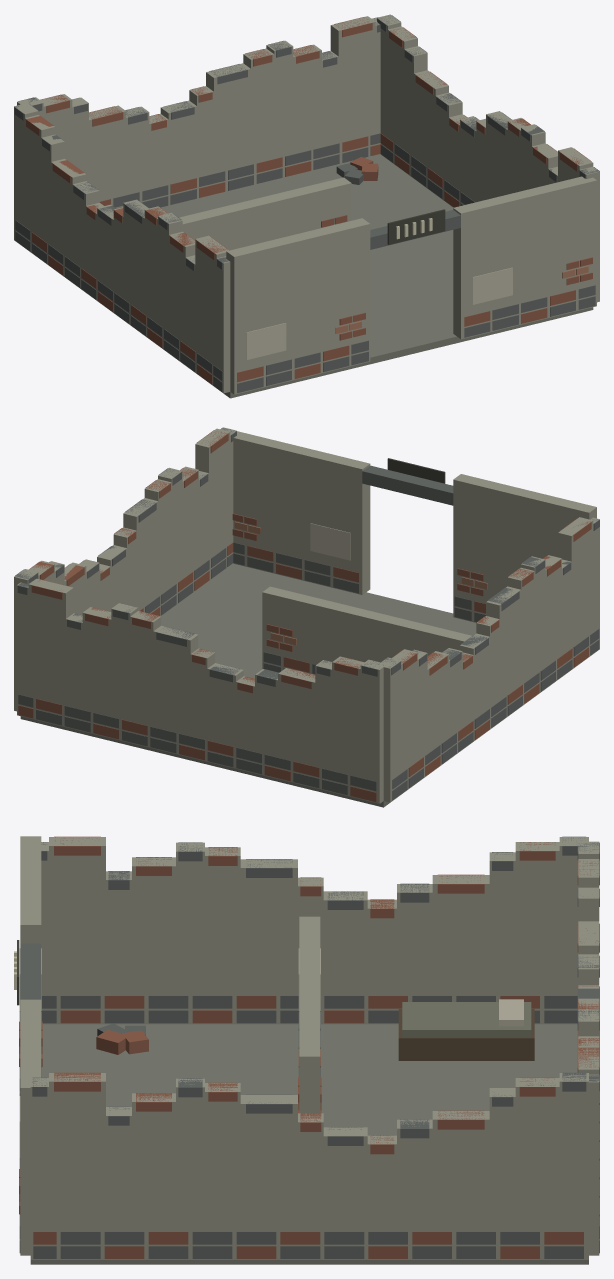
Rendered from FSA_ENV_Quarantine_Building_05_Roofless.glb.
3 renders of one model, top to bottom at view 1: azimuth 30°, elevation 25°; view 2: azimuth 150°, elevation 25°; view 3: azimuth 270°, elevation 25°, orthographic. The views are drawn at different scales.
Parts seen in each view (by area): view 1: Floor, FrontLeft, FrontRight, BackBase, WestBase, OldRoomDivider, EastBase, Back_Fracture_13, Back_Fracture_8, West_Fracture_13, Back_Fracture_3, Back_Fracture_11 (+36 smaller); view 2: BackBase, FrontRight, Floor, FrontLeft, WestBase, OldRoomDivider, EastBase, Back_Fracture_13, Back_Fracture_8, West_Fracture_13, East_Fracture_13, Back_Fracture_1 (+34 smaller); view 3: Floor, EastBase, WestBase, West_Fracture_13, East_Fracture_13, West_Fracture_8, East_Fracture_8, West_Fracture_1, OldRoomDivider, East_Fracture_1, CotMat, West_Fracture_3 (+62 smaller).
Part boxes in pixels (<box>): Floor: <box>162,154,593,398</box>; FrontLeft: <box>226,218,370,394</box>; FrontRight: <box>453,176,596,339</box>; BackBase: <box>79,95,380,208</box>; WestBase: <box>14,181,230,393</box>; OldRoomDivider: <box>179,177,351,250</box>; EastBase: <box>380,95,599,302</box>; Back_Fracture_13: <box>330,16,375,105</box>; Back_Fracture_8: <box>206,63,250,135</box>; West_Fracture_13: <box>195,235,228,328</box>; Back_Fracture_3: <box>89,105,126,166</box>; Back_Fracture_11: <box>293,44,321,116</box>; BackBase: <box>17,656,383,803</box>; FrontRight: <box>233,431,370,594</box>; Floor: <box>20,563,476,807</box>; FrontLeft: <box>453,474,596,622</box>; WestBase: <box>383,590,599,802</box>; OldRoomDivider: <box>262,586,471,674</box>; EastBase: <box>14,504,233,711</box>; Back_Fracture_13: <box>28,578,73,667</box>; Back_Fracture_8: <box>153,625,198,698</box>; West_Fracture_13: <box>558,517,593,610</box>; East_Fracture_13: <box>195,428,230,521</box>; Back_Fracture_1: <box>332,656,364,739</box>; Floor: <box>30,1024,588,1264</box>; EastBase: <box>30,1181,588,1259</box>; WestBase: <box>41,945,578,1024</box>; West_Fracture_13: <box>49,837,105,945</box>; East_Fracture_13: <box>49,1073,105,1180</box>; West_Fracture_8: <box>240,859,297,945</box>; East_Fracture_8: <box>240,1095,297,1180</box>; West_Fracture_1: <box>515,842,559,945</box>; OldRoomDivider: <box>299,916,320,1113</box>; East_Fracture_1: <box>515,1078,559,1180</box>; CotMat: <box>402,1002,531,1037</box>; West_Fracture_3: <box>432,875,489,945</box>.
Bounding box in the file's own units: 8.32 × 3.04 × 8.4.
